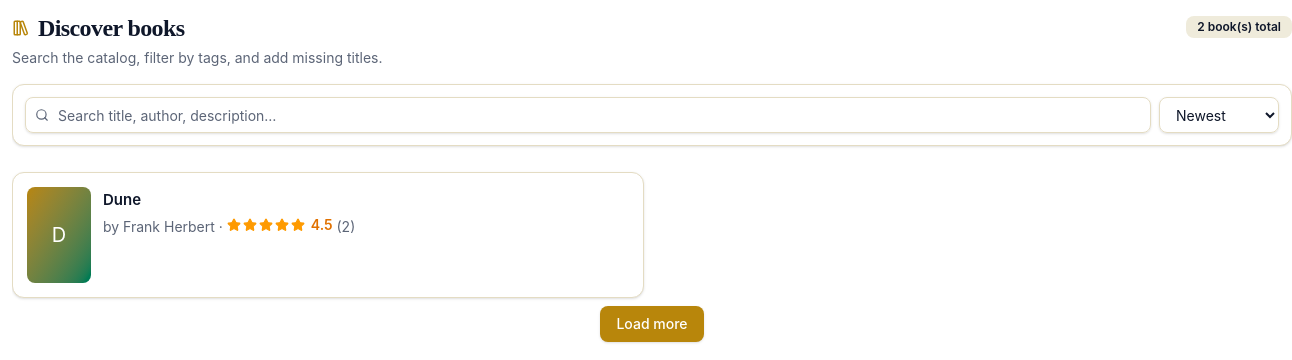
Scenario: books list › load more appends the next page
Expected: the button "Dune" is shown, top-left (103, 190), bottom-right (141, 211)
Click the button "Load more" at coordinates (652, 324), box top-left (600, 306), bottom-right (704, 342)
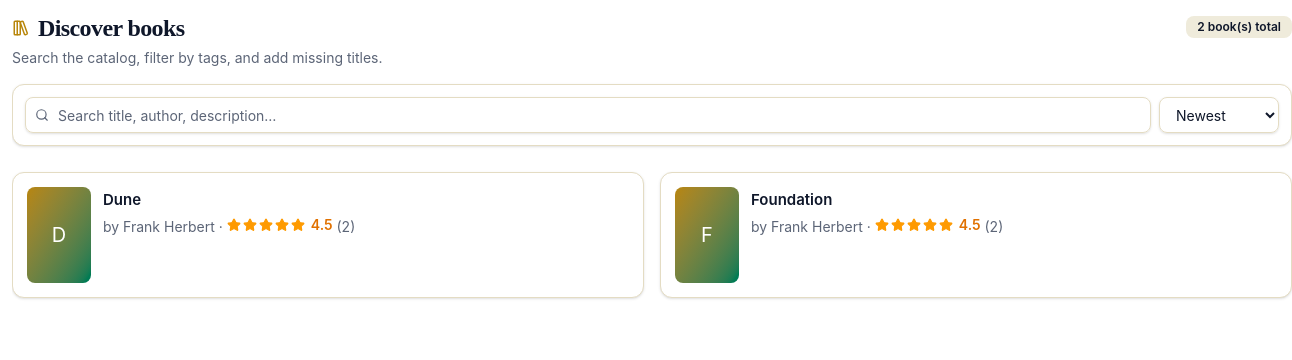
Expected: the button "Dune" is shown, top-left (103, 190), bottom-right (141, 211)
Result: the button "Foundation" is shown at top-left (751, 190), bottom-right (832, 211)
Result: the button "Load more" is gone
